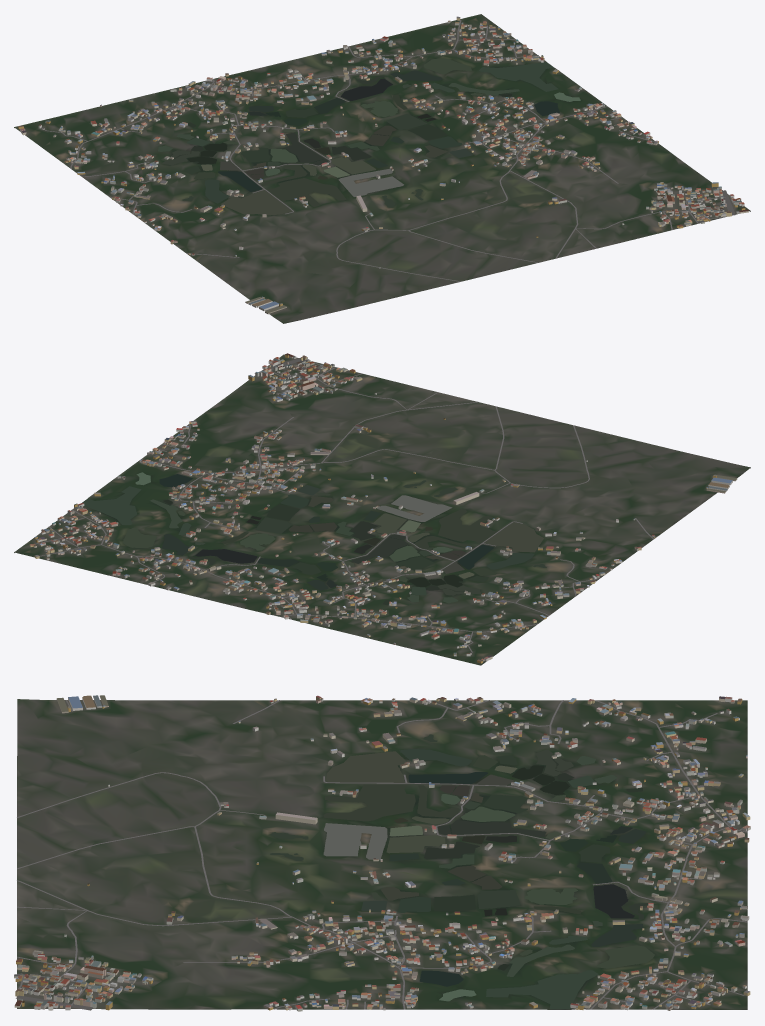
3 views of the same model, one above another, from view 1: azimuth 30°, elevation 25°; view 2: azimuth 150°, elevation 25°; view 3: azimuth 270°, elevation 25° (orthographic). The views are drawn at different scales.
Parts seen in each view (by area): view 1: ground, buildings, water, roads; view 2: ground, buildings, water, roads; view 3: ground, buildings, water, roads.
Boxes of the visible parts, bbox=[...] form: ground: bbox=[14, 14, 750, 323]; buildings: bbox=[18, 16, 748, 314]; water: bbox=[158, 58, 580, 215]; roads: bbox=[45, 20, 735, 311]; ground: bbox=[14, 354, 750, 665]; buildings: bbox=[29, 353, 737, 663]; water: bbox=[82, 472, 546, 605]; roads: bbox=[35, 358, 653, 652]; ground: bbox=[17, 699, 747, 1009]; buildings: bbox=[14, 695, 750, 1011]; water: bbox=[269, 734, 654, 1009]; roads: bbox=[16, 700, 747, 1010].
Size of the model in its own units: 1429 by 17.53 by 1414.
